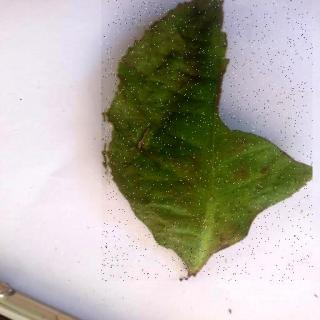Brown Blight: (103, 1, 314, 282)
